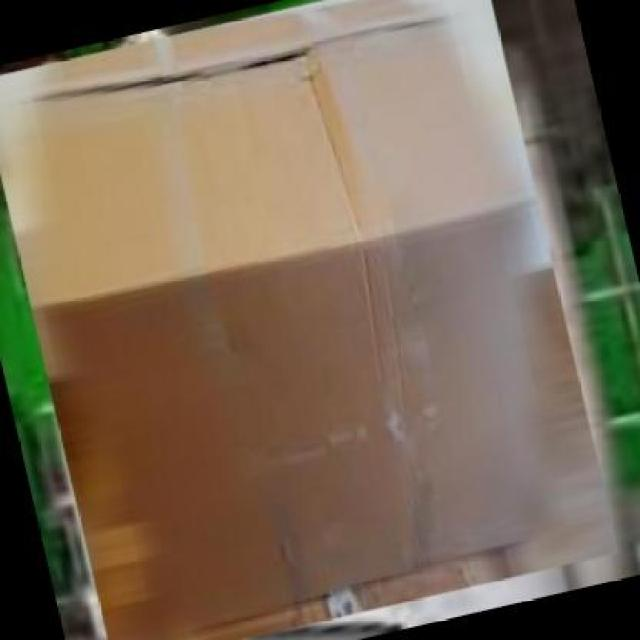box: (0, 0, 628, 640)
